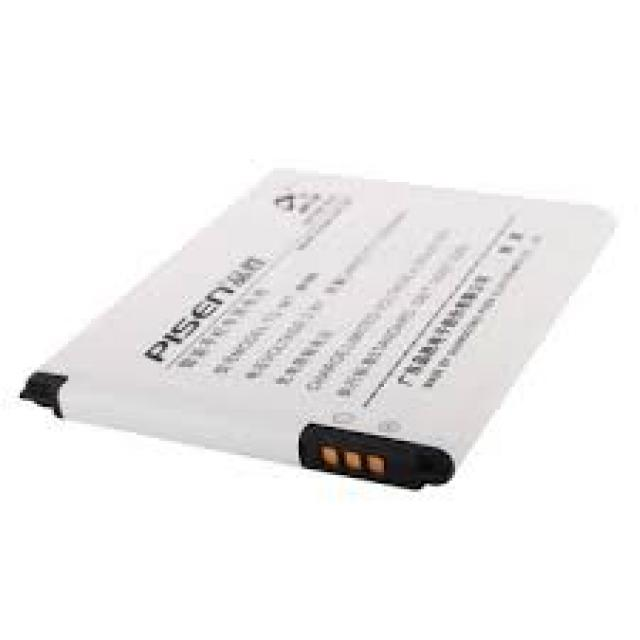non-organic waste: (22, 168, 615, 493)
